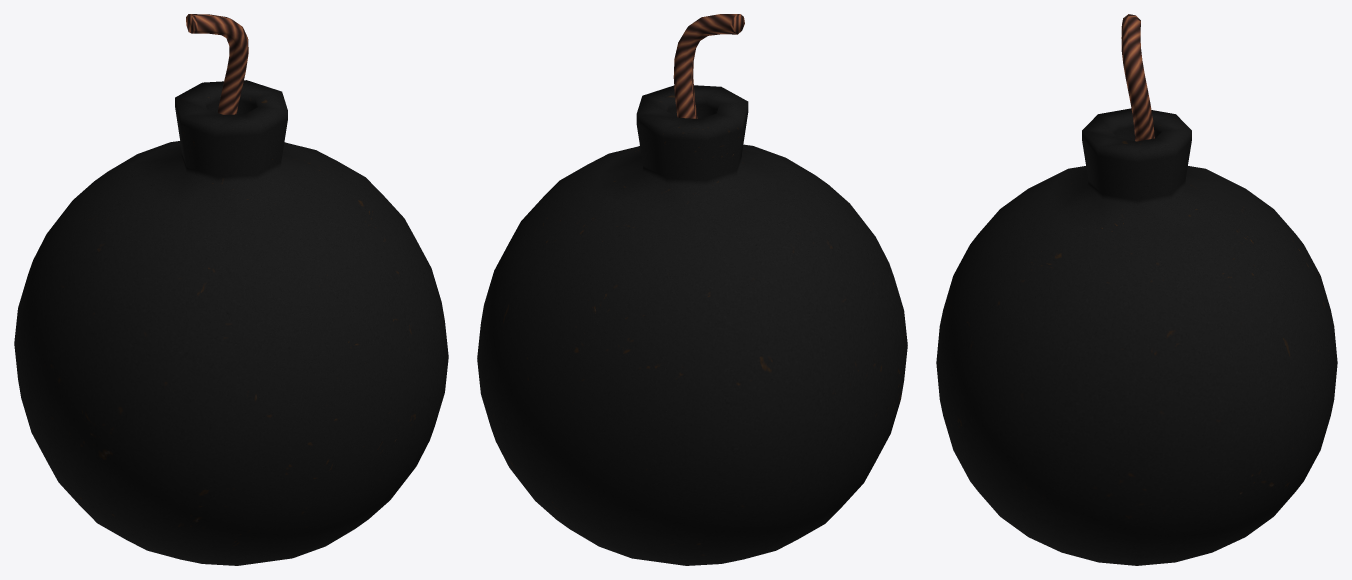
Rendered from bomb1.glb.
3 views of the same model, side by side, from view 1: azimuth 30°, elevation 25°; view 2: azimuth 150°, elevation 25°; view 3: azimuth 270°, elevation 25° (orthographic). The views are drawn at different scales.
Visible parts, largest first — view 1: Bomb.1; view 2: Bomb.1; view 3: Bomb.1.
Boxes of the visible parts, x1,y1,x2,y2 form: Bomb.1: (14, 14, 448, 565); Bomb.1: (477, 14, 907, 565); Bomb.1: (936, 14, 1337, 565).
Size of the model in its own units: 30 by 42.11 by 30.
Materials: 2 (2 with a texture image).
